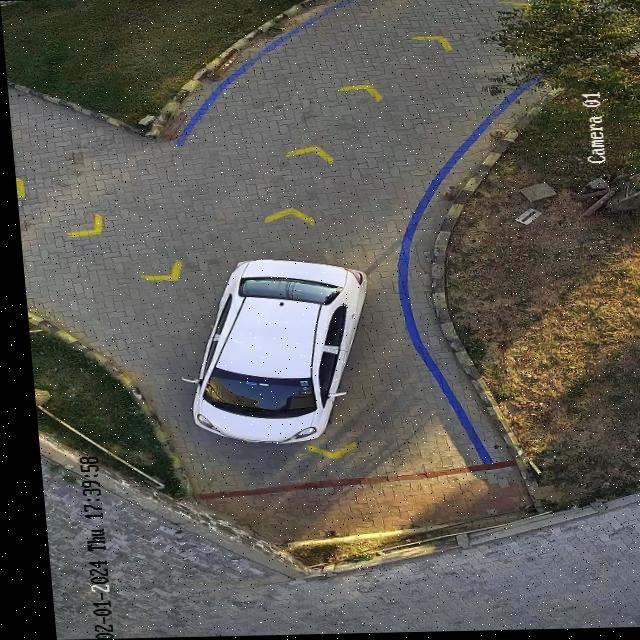car: (178, 260, 361, 444)
